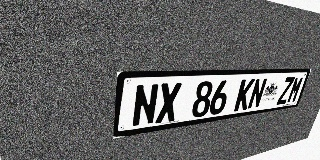6: (208, 80, 231, 116)
8: (190, 81, 215, 118)
K: (233, 79, 255, 112)
M: (286, 76, 304, 103)
N: (131, 83, 160, 127), (247, 78, 268, 109)
X: (155, 82, 182, 124)
Z: (276, 77, 295, 105)
